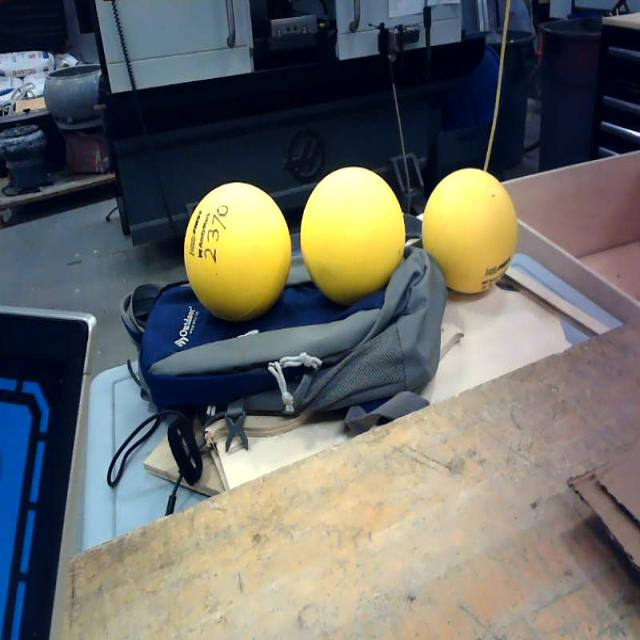Fuel: (184, 182, 292, 324), (300, 166, 406, 306), (422, 168, 518, 294)
